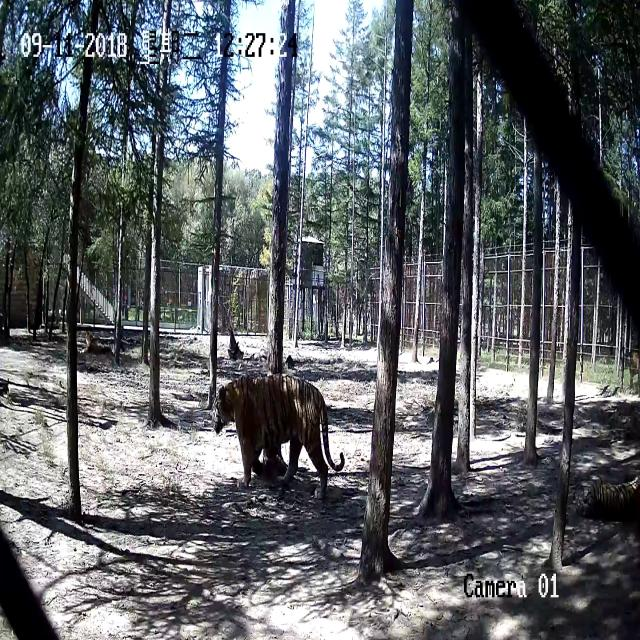Tiger: (203, 358, 349, 504)
